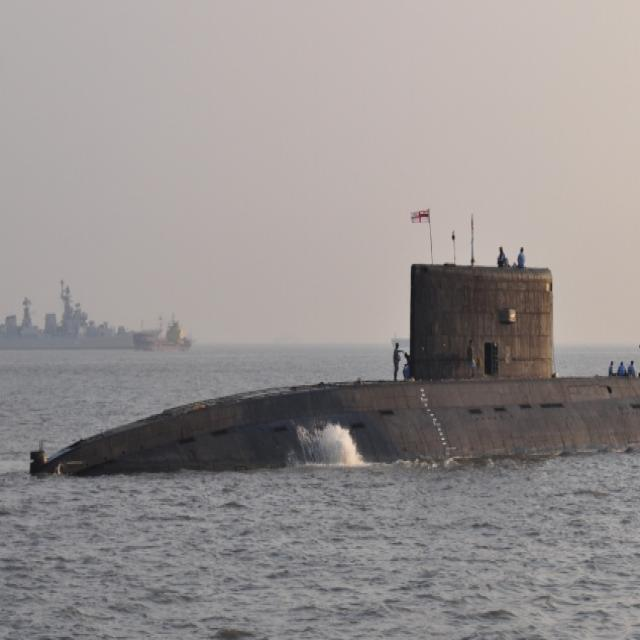submarine: (28, 273, 640, 484)
